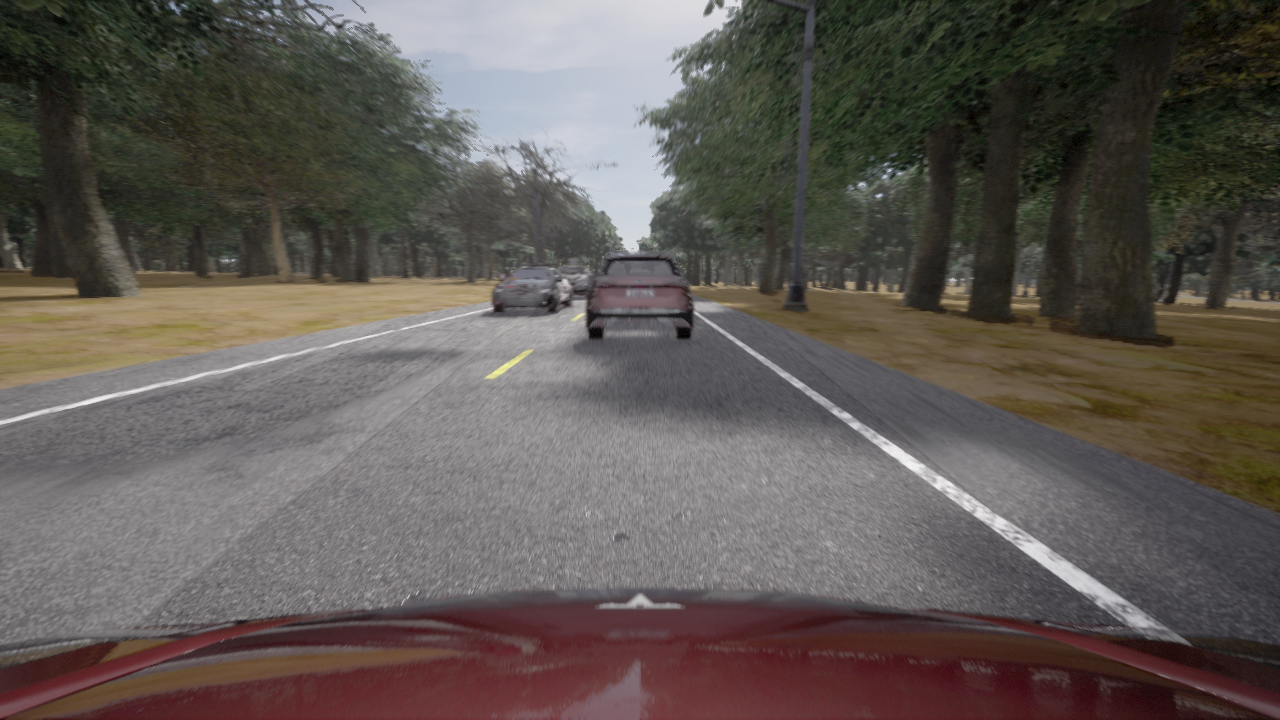cyclist: (0, 588, 1279, 719), (586, 250, 693, 340), (492, 264, 572, 313), (557, 266, 593, 298)
